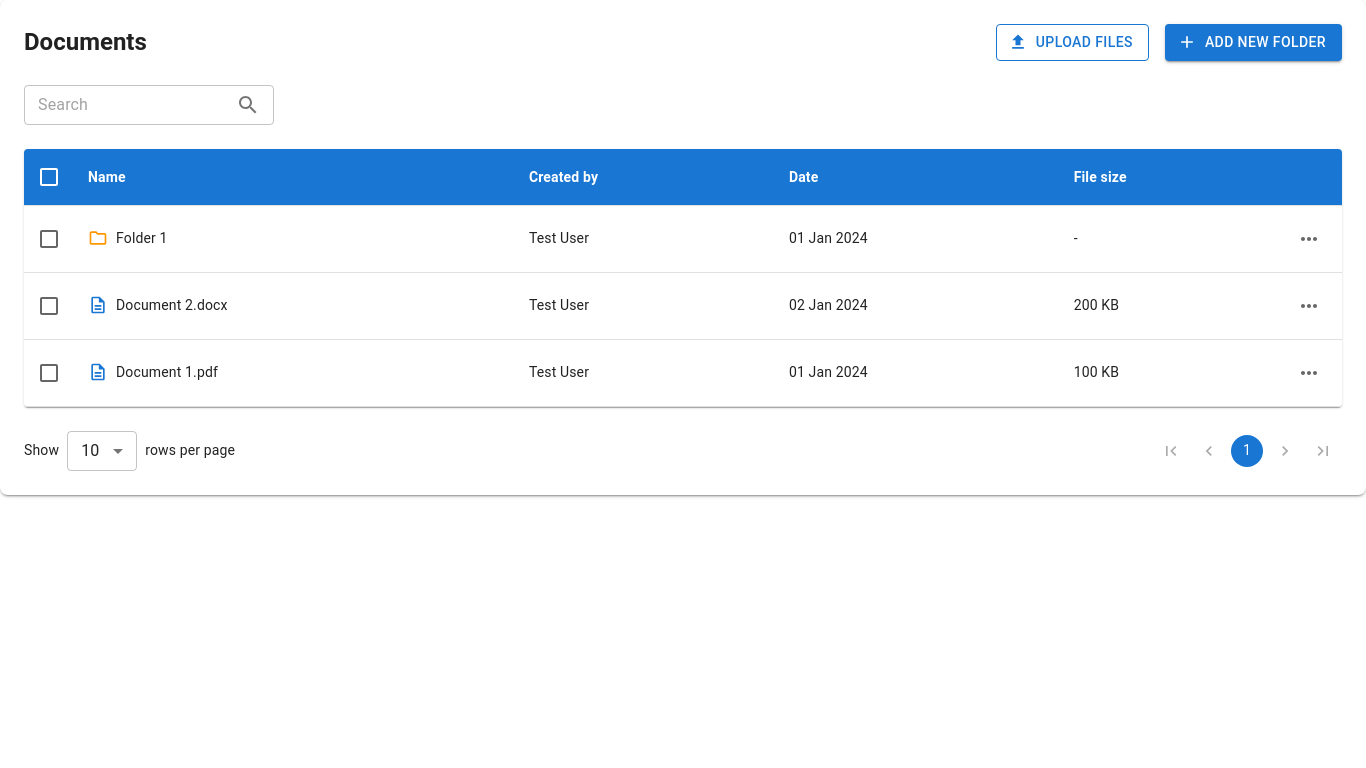
Test: DocumentListing › should open view folder modal when view is clicked for folder
The image size is (1366, 768).
expect the text "Folder 1" is shown: met, box top-left (116, 228), bottom-right (168, 248)
Step 1. Click the button named "actions for folder" → coordinates (1309, 238), box top-left (1292, 222), bottom-right (1326, 256)
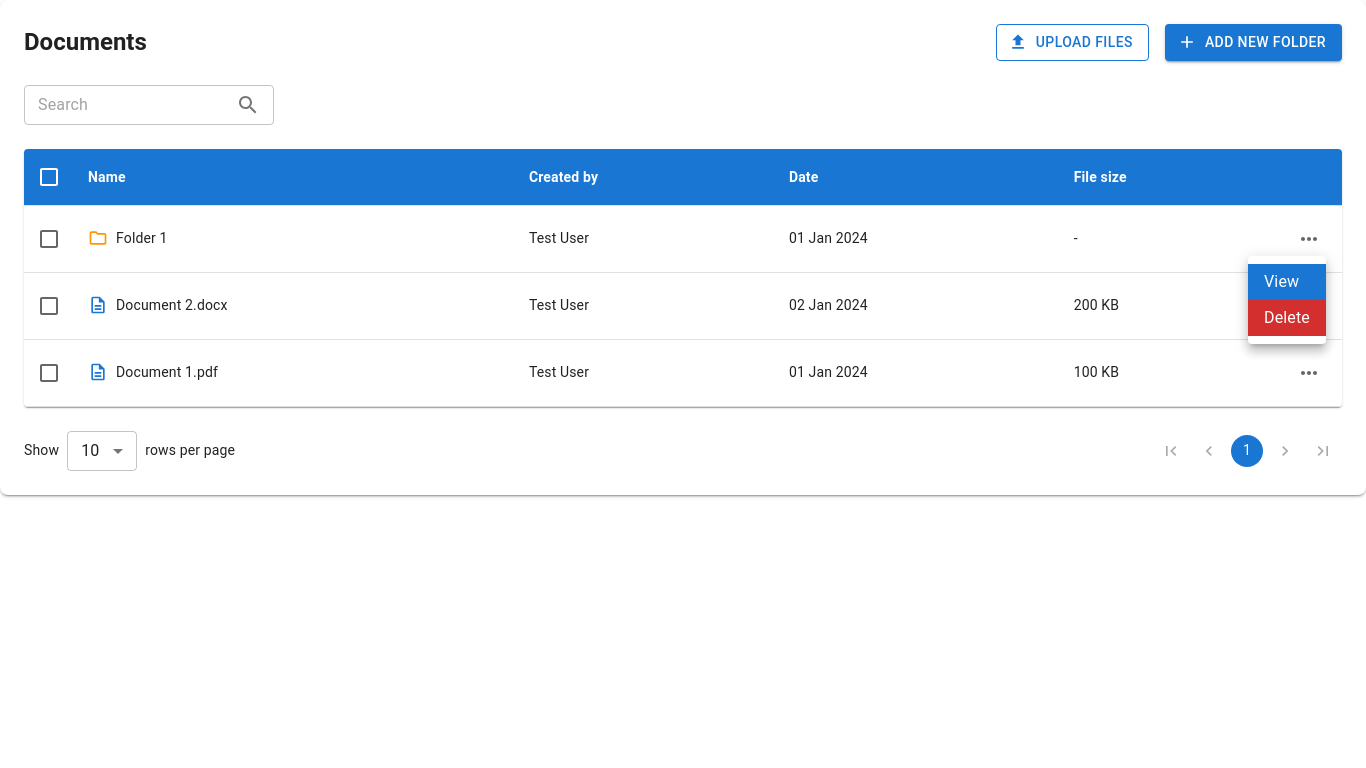
Step 2. Click the menu item "View" → coordinates (1287, 282), box top-left (1248, 264), bottom-right (1326, 300)
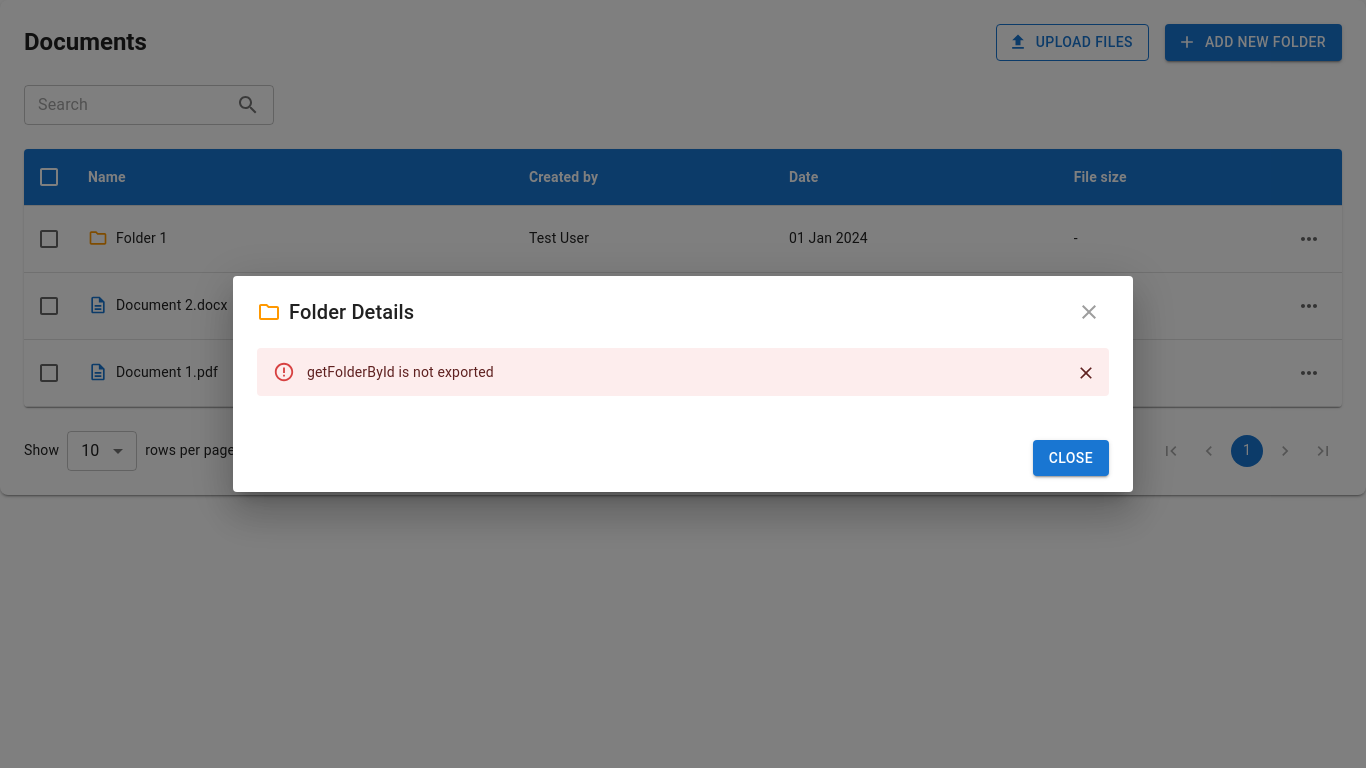
expect the element with test id "view-folder-modal" is shown: met
